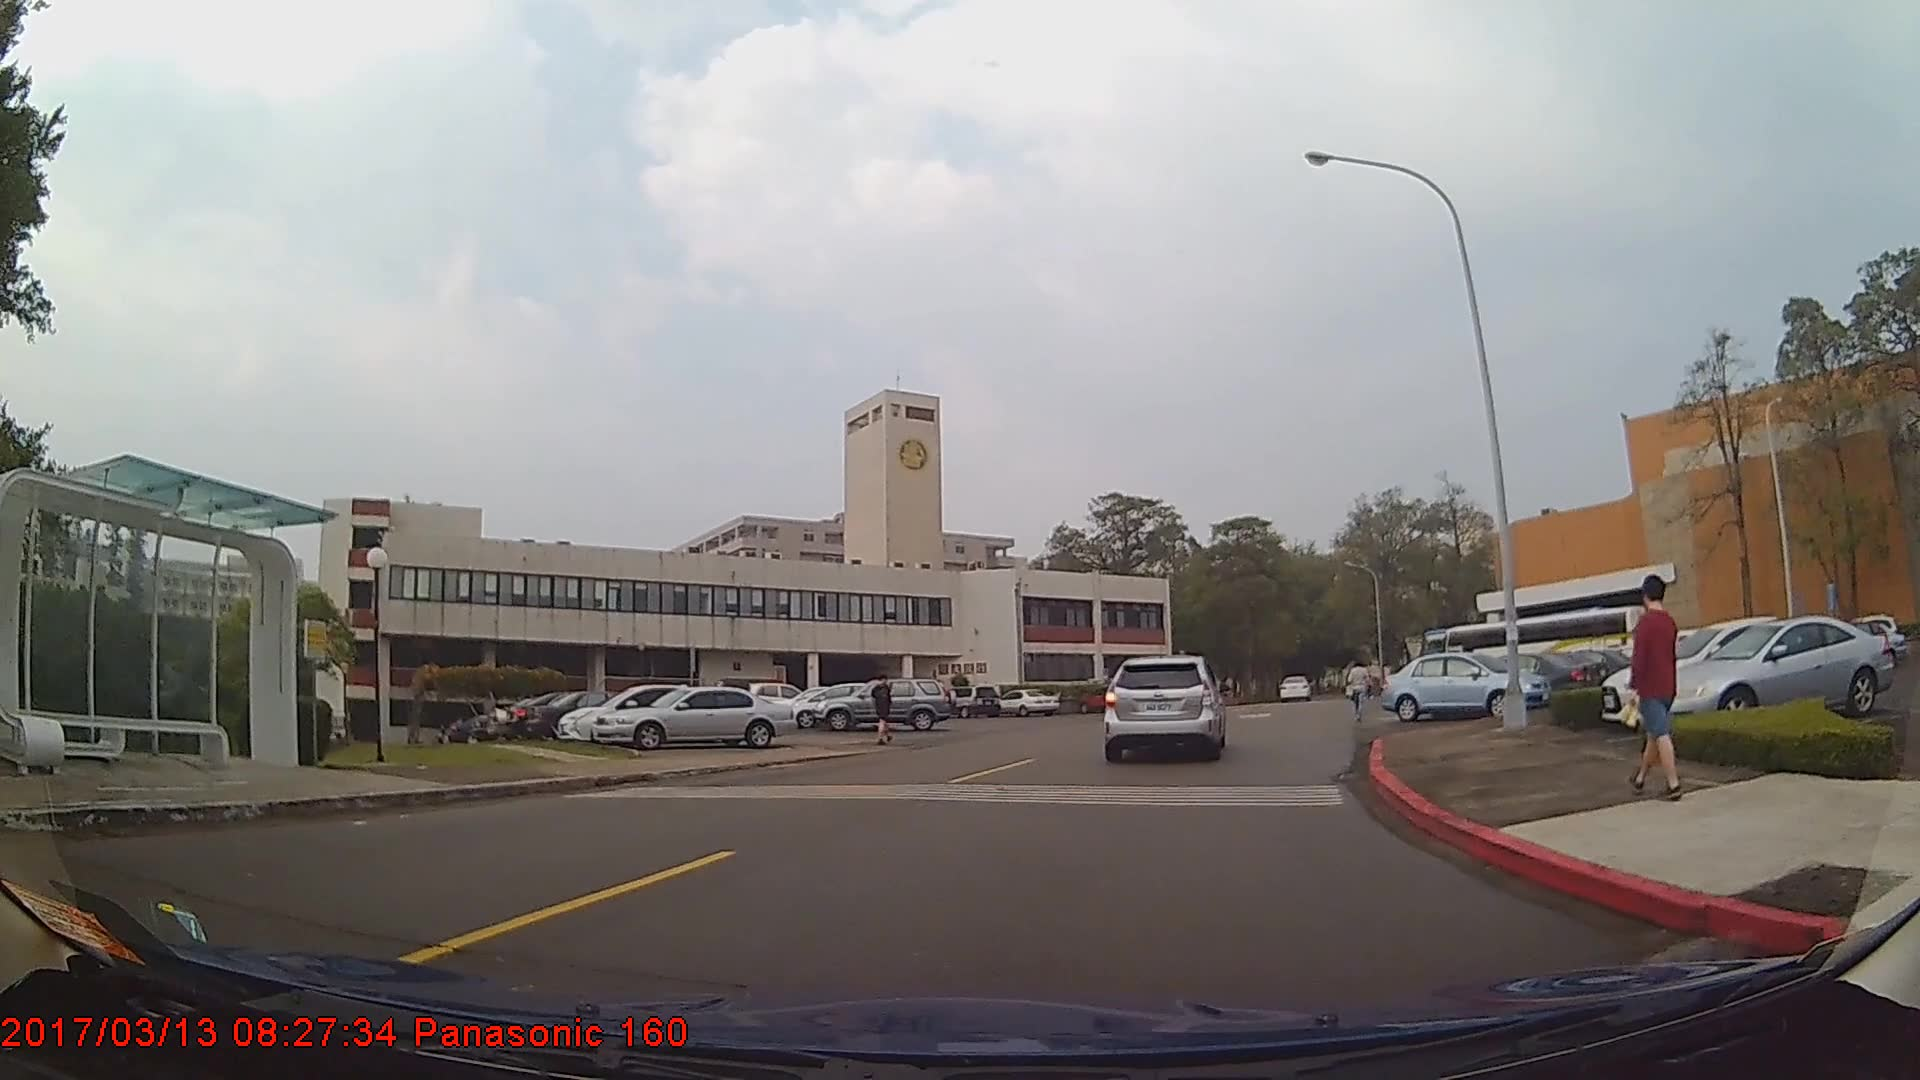pedestrian: (1630, 572, 1684, 800), (1345, 660, 1374, 728), (871, 672, 897, 747)
vehicle: (1599, 614, 1850, 722), (1659, 614, 1896, 726), (1104, 653, 1225, 763), (592, 687, 797, 751), (1376, 651, 1554, 723), (555, 685, 758, 746), (1445, 651, 1602, 702), (524, 690, 671, 743), (815, 680, 954, 733), (936, 687, 1001, 722), (993, 687, 1061, 718), (1279, 671, 1311, 700)
